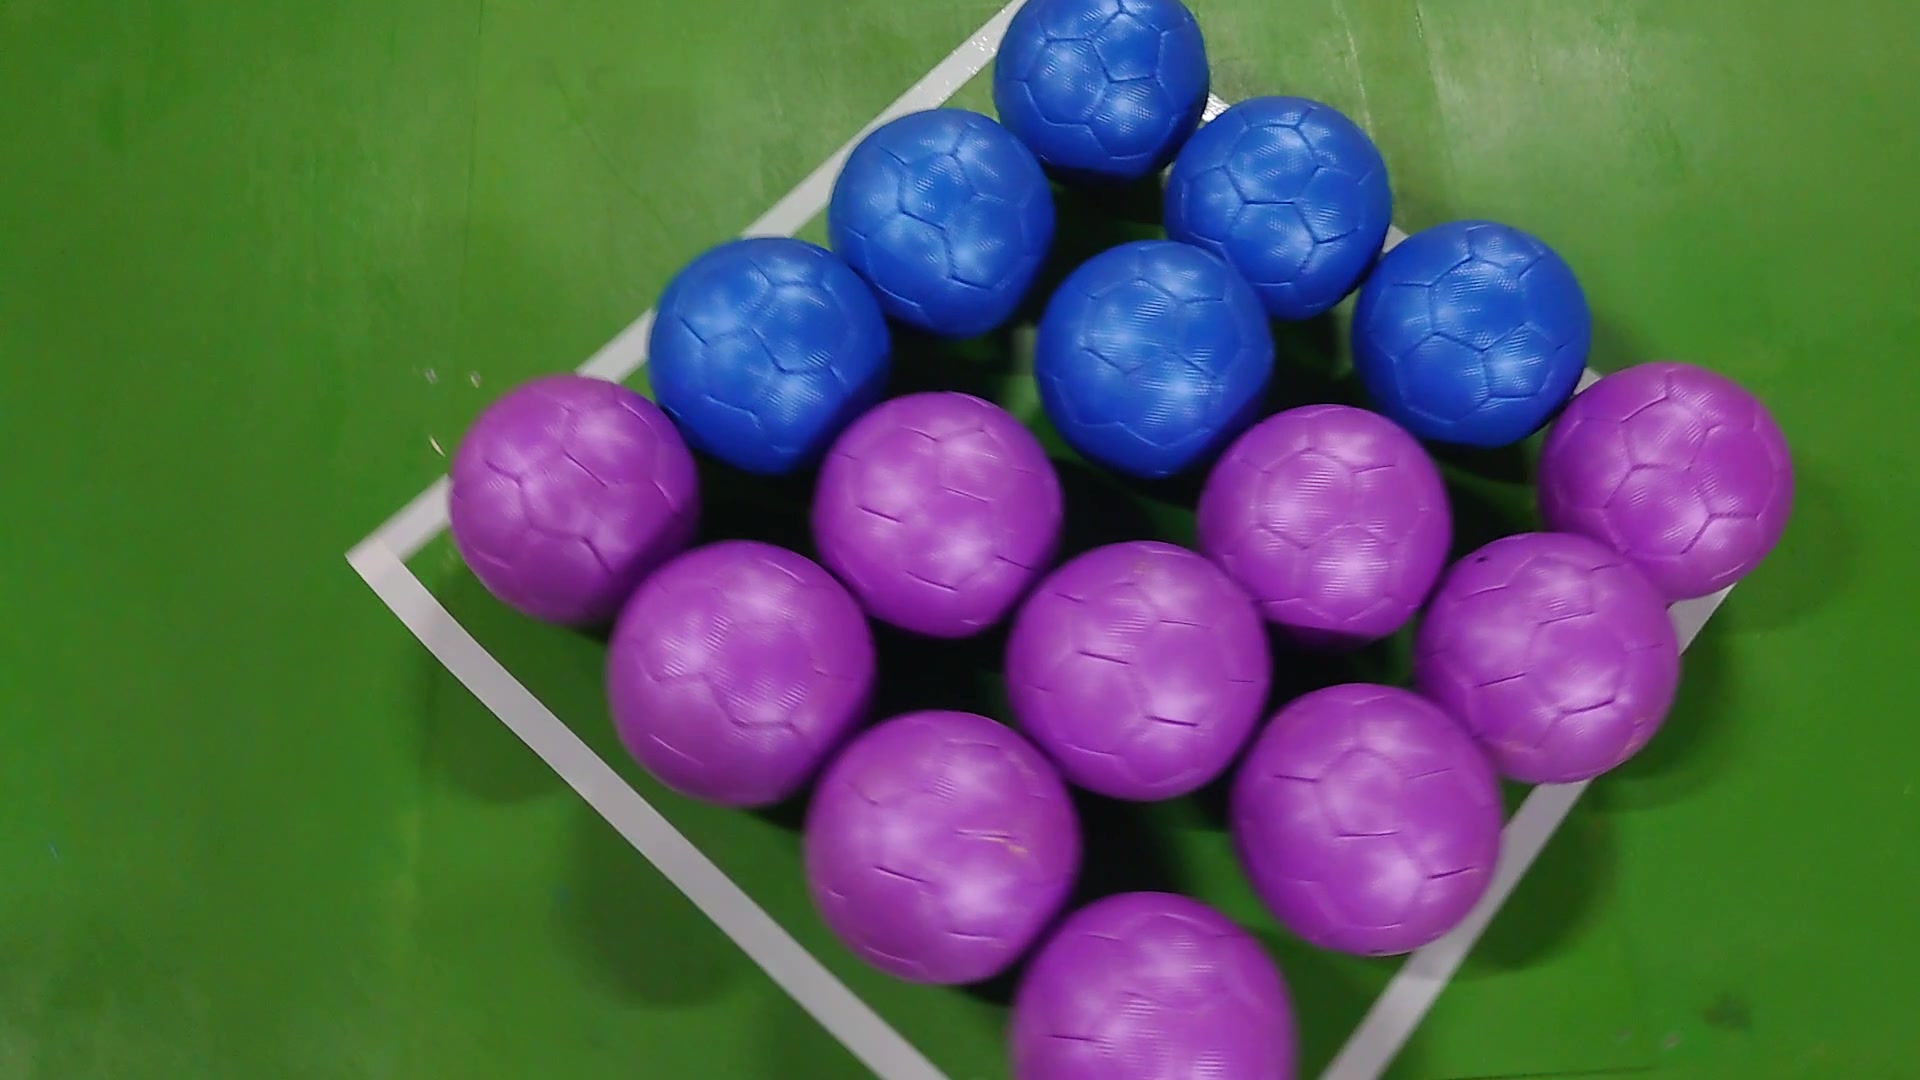blue: (644, 232, 901, 483), (1031, 235, 1276, 471), (1349, 215, 1600, 444), (825, 108, 1058, 334), (1163, 88, 1391, 314), (993, 0, 1212, 186)
purple: (1225, 679, 1506, 951), (807, 705, 1081, 980), (615, 535, 878, 800), (1009, 533, 1270, 796), (1414, 529, 1679, 781), (814, 389, 1064, 637), (444, 372, 695, 620), (1535, 363, 1799, 595), (1195, 402, 1449, 637), (1006, 889, 1294, 1071)
